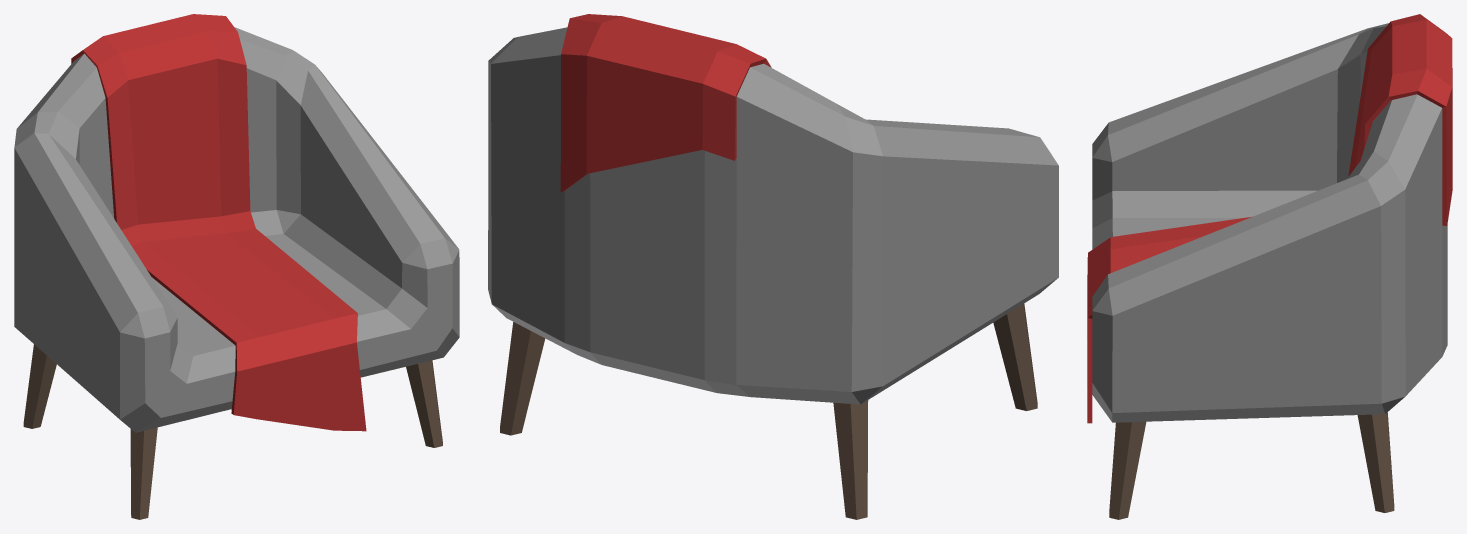
File: Chair_Armchair_2_231109.glb
The picture shows the model from 3 angles, left to right: view 1: azimuth 30°, elevation 25°; view 2: azimuth 150°, elevation 25°; view 3: azimuth 270°, elevation 25°; orthographic projection. The views are drawn at different scales.
Visible parts, largest first — view 1: Armchair_2; view 2: Armchair_2; view 3: Armchair_2.
Boxes of the visible parts, left/top/right/bottom form: Armchair_2: left=14, top=14, right=459, bottom=519; Armchair_2: left=488, top=14, right=1058, bottom=519; Armchair_2: left=1087, top=14, right=1452, bottom=519.
Size of the model in its own units: 1.15 by 1.14 by 0.9672.
1 material, 1 textured.
